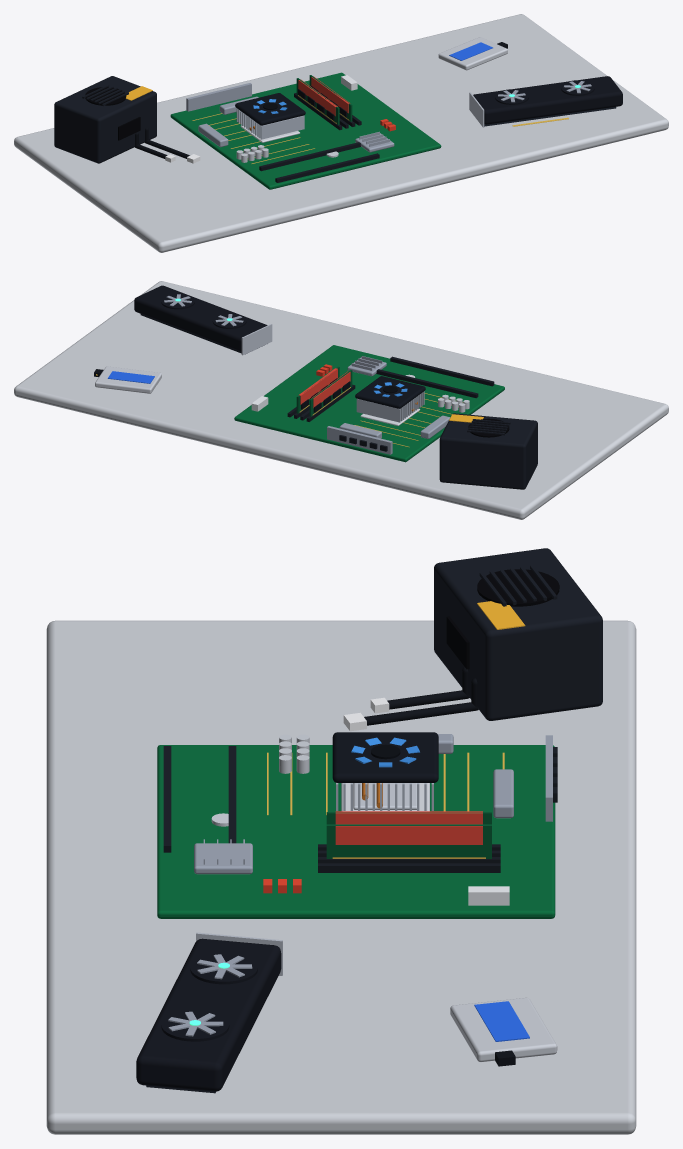
The model's file is perangkat-keras.glb.
3 views of the same model, one above another, from view 1: azimuth 30°, elevation 25°; view 2: azimuth 150°, elevation 25°; view 3: azimuth 270°, elevation 25° (orthographic). The views are drawn at different scales.
Visible parts, largest first — view 1: model; view 2: model; view 3: model.
Part boxes in pixels (<box>): model: <box>14,14,668,252</box>; model: <box>14,281,668,519</box>; model: <box>46,548,636,1134</box>.
Bounding box in the file's own units: 4 × 0.438 × 2.
